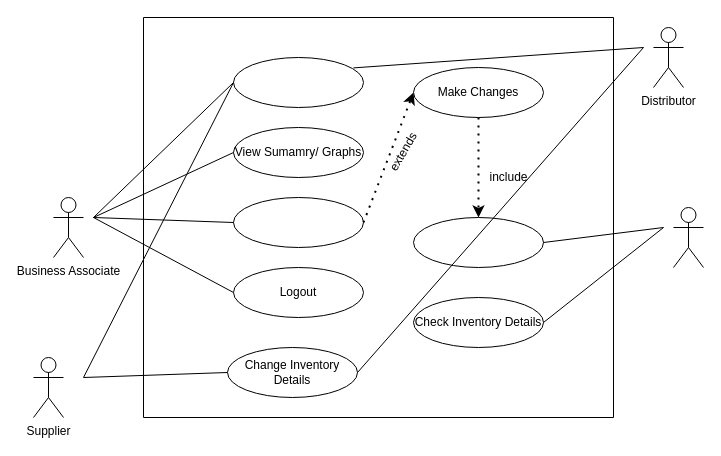
Some shapes in this 721 by 456 pixel diagram are drawn without their labels. Each missing label, with the centre of its shape:
"Check Staff Details" goes at point (298, 222).
"Login" goes at point (298, 82).
"Notification" goes at point (478, 242).
"Staff" goes at point (688, 237).
